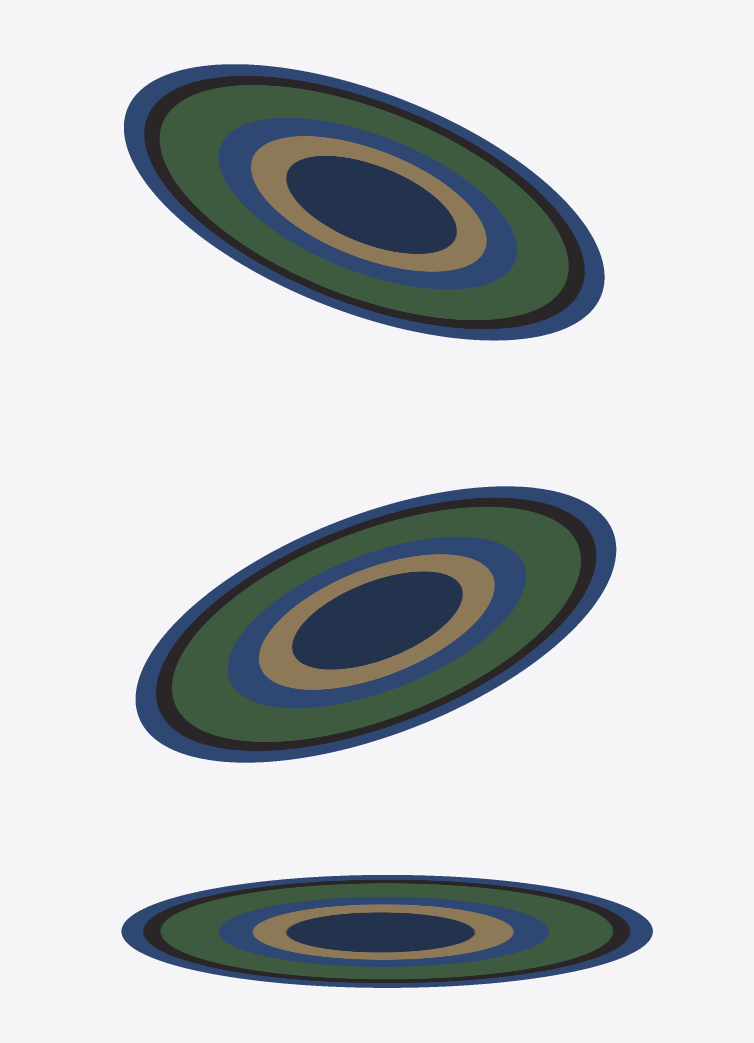
Rendered from 1950s Bedroom Mat.fbx.
The picture shows the model from 3 angles, top to bottom: view 1: azimuth 30°, elevation 25°; view 2: azimuth 150°, elevation 25°; view 3: azimuth 270°, elevation 25°; orthographic projection. The views are drawn at different scales.
Visible parts, largest first — view 1: s_Mat; view 2: s_Mat; view 3: s_Mat.
Part boxes in pixels (x1,y1,x2,y2): s_Mat: [124, 64, 604, 340]; s_Mat: [135, 486, 616, 762]; s_Mat: [121, 875, 652, 987].
Bounding box in the file's own units: 2 × 0 × 3.23.
1 material, 1 textured.
